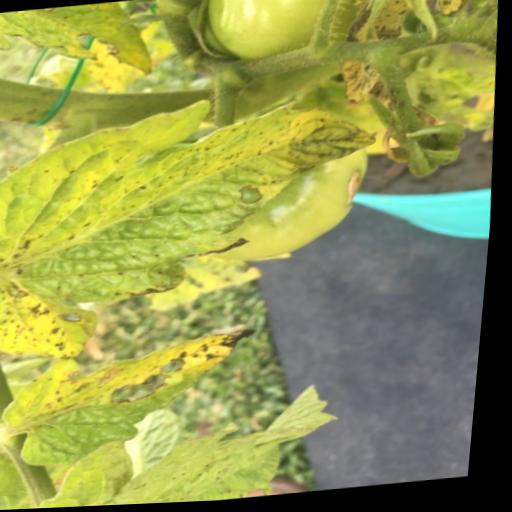Septoria: (0, 84, 392, 368), (2, 325, 263, 470), (113, 382, 354, 507)
